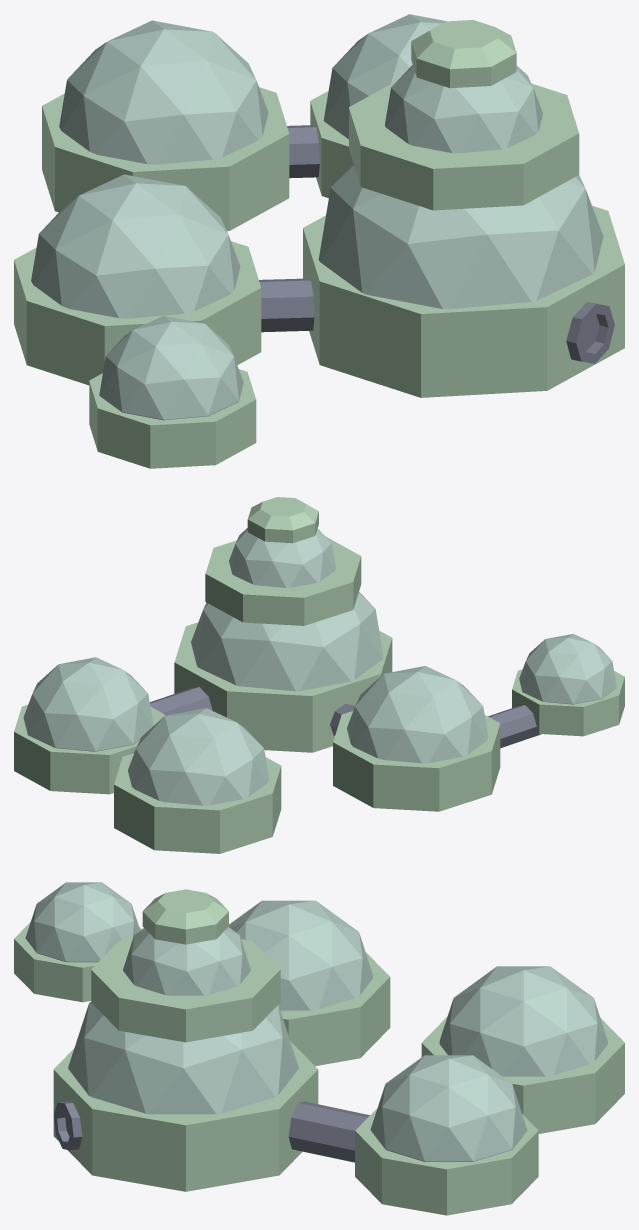
Rendered from appart v2 03.fbx.
3 renders of one model, top to bottom at view 1: azimuth 30°, elevation 25°; view 2: azimuth 150°, elevation 25°; view 3: azimuth 270°, elevation 25°, orthographic. The views are drawn at different scales.
Visible parts, largest first — view 1: Cylinder, Icosphere.001, Icosphere.004, Icosphere.003, Cylinder.001, Cylinder.007, Cylinder.008, Icosphere.005, Icosphere.002, Cylinder.010, Cylinder.002, Icosphere (+4 smaller); view 2: Icosphere.001, Icosphere.003, Icosphere.004, Cylinder, Icosphere, Cylinder.007, Cylinder.008, Cylinder.001, Icosphere.005, Cylinder.004, Icosphere.002, Cylinder.010 (+3 smaller); view 3: Cylinder, Icosphere.001, Icosphere.003, Icosphere, Cylinder.001, Icosphere.004, Cylinder.004, Cylinder.007, Icosphere.005, Icosphere.002, Cylinder.008, Cylinder.002 (+3 smaller).
Part boxes in pixels (x1=…): Cylinder: x1=303, y1=205, x2=624, y2=397; Icosphere.001: x1=318, y1=163, x2=603, y2=309; Icosphere.004: x1=31, y1=174, x2=240, y2=318; Icosphere.003: x1=59, y1=20, x2=268, y2=164; Cylinder.001: x1=349, y1=80, x2=579, y2=210; Cylinder.007: x1=42, y1=87, x2=289, y2=231; Cylinder.008: x1=14, y1=241, x2=261, y2=385; Icosphere.005: x1=99, y1=316, x2=243, y2=420; Icosphere.002: x1=384, y1=65, x2=542, y2=153; Cylinder.010: x1=89, y1=369, x2=256, y2=468; Cylinder.002: x1=411, y1=20, x2=516, y2=88; Icosphere: x1=323, y1=14, x2=446, y2=139; Icosphere.001: x1=191, y1=592, x2=383, y2=691; Icosphere.003: x1=128, y1=708, x2=269, y2=805; Icosphere.004: x1=347, y1=666, x2=488, y2=763; Cylinder: x1=174, y1=622, x2=392, y2=752; Icosphere: x1=23, y1=657, x2=153, y2=751; Cylinder.007: x1=114, y1=753, x2=281, y2=853; Cylinder.008: x1=333, y1=711, x2=500, y2=811; Cylinder.001: x1=205, y1=536, x2=361, y2=625; Icosphere.005: x1=519, y1=633, x2=616, y2=704; Cylinder.004: x1=14, y1=704, x2=164, y2=794; Icosphere.002: x1=229, y1=528, x2=335, y2=587; Cylinder.010: x1=512, y1=669, x2=624, y2=736; Cylinder: x1=53, y1=1041, x2=318, y2=1191; Icosphere.001: x1=68, y1=1001, x2=298, y2=1114; Icosphere.003: x1=439, y1=966, x2=607, y2=1076; Icosphere: x1=370, y1=1055, x2=527, y2=1161; Cylinder.001: x1=91, y1=938, x2=280, y2=1042; Icosphere.004: x1=229, y1=900, x2=373, y2=1010; Cylinder.004: x1=355, y1=1108, x2=538, y2=1215; Cylinder.007: x1=421, y1=1016, x2=624, y2=1133; Icosphere.005: x1=25, y1=882, x2=140, y2=962; Icosphere.002: x1=123, y1=927, x2=250, y2=995; Cylinder.008: x1=280, y1=952, x2=390, y2=1066; Cylinder.002: x1=142, y1=889, x2=228, y2=944.
Size of the model in its own units: 1232 by 533 by 1257.
